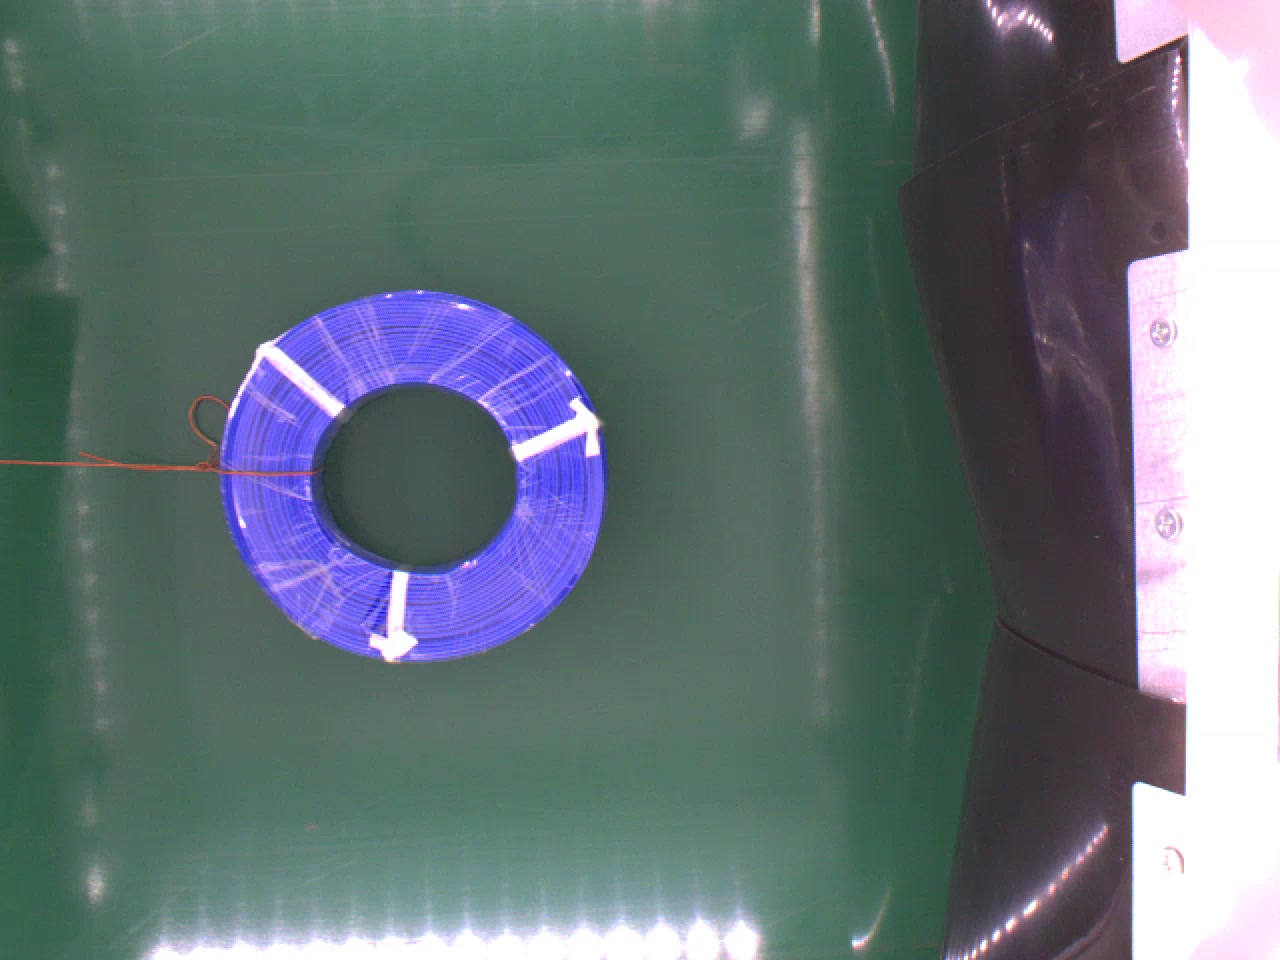blue: (218, 288, 610, 665)
